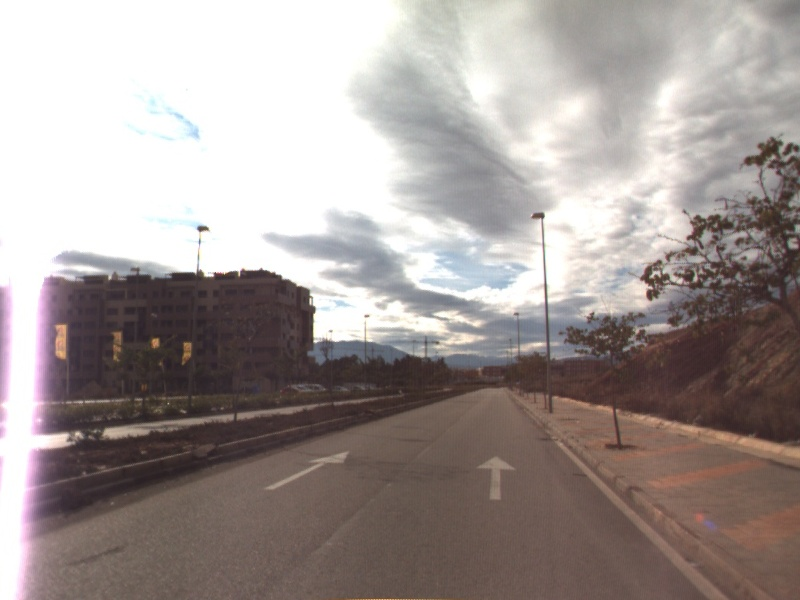STRAIGHT: (262, 449, 352, 492), (474, 454, 519, 502)
